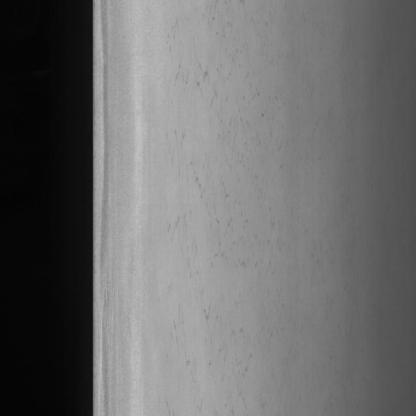silk_spot: (160, 38, 280, 403)
